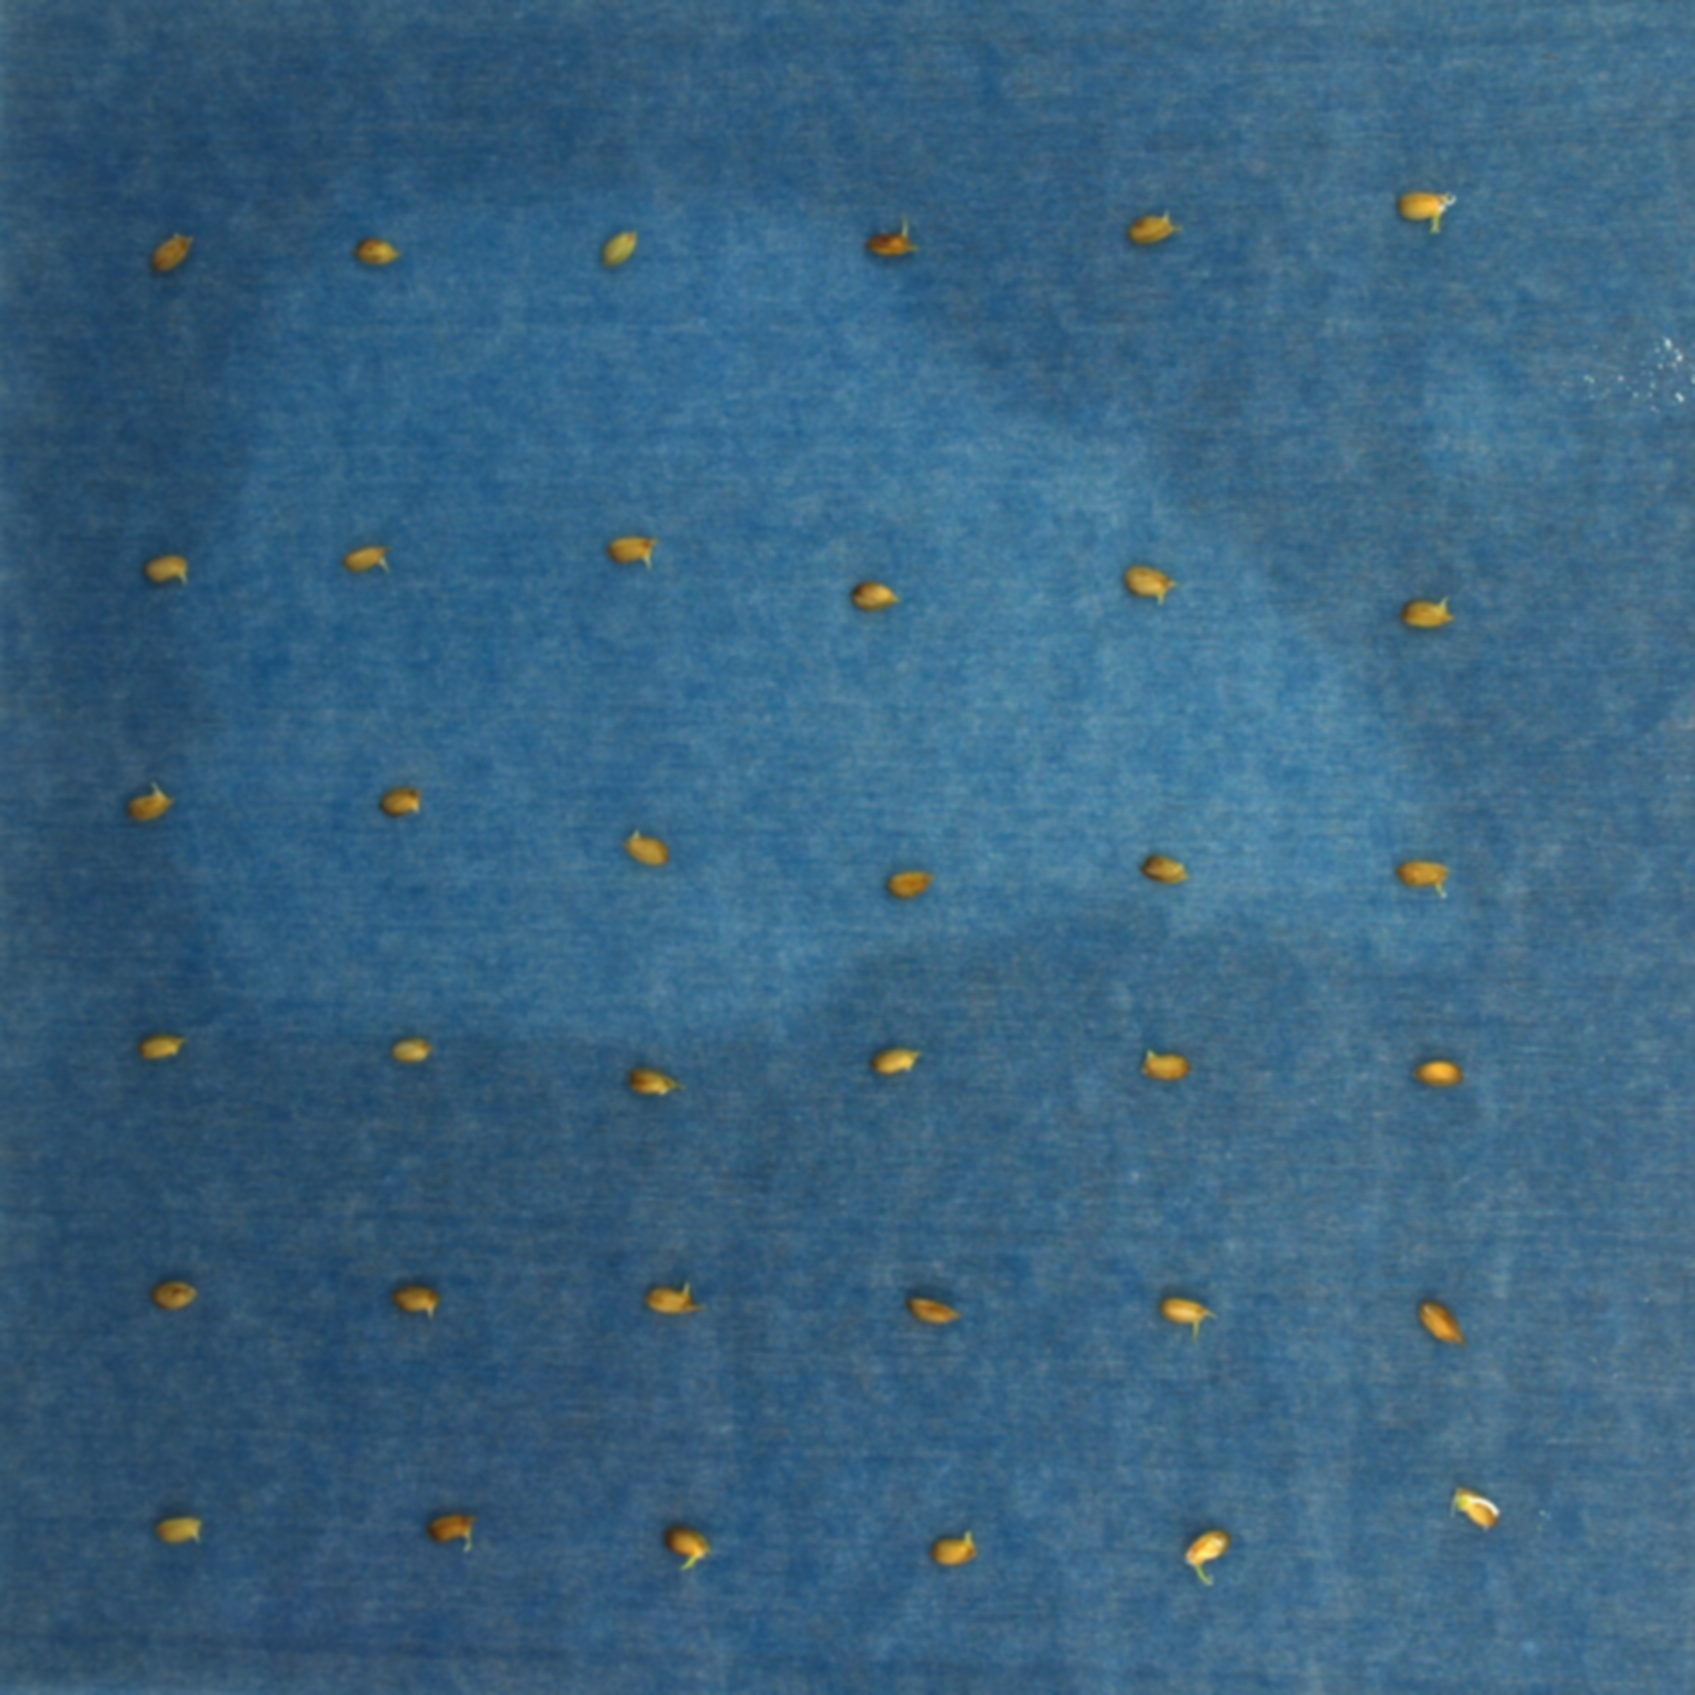not sprout: (863, 213, 922, 261), (1161, 1295, 1222, 1340), (1395, 191, 1458, 234), (1394, 857, 1451, 903), (1125, 562, 1180, 608), (422, 1509, 480, 1552), (126, 781, 179, 827), (643, 1281, 711, 1315), (602, 532, 660, 573), (1451, 1485, 1501, 1530), (146, 231, 197, 272), (1419, 1299, 1465, 1343), (1125, 206, 1177, 245), (621, 827, 666, 871), (391, 1284, 439, 1324), (626, 1066, 685, 1099), (1403, 594, 1458, 629), (930, 1530, 979, 1568), (143, 551, 191, 588), (135, 1031, 196, 1060), (596, 228, 640, 269), (352, 237, 404, 272), (151, 1515, 206, 1546), (1139, 1048, 1189, 1082), (908, 1296, 965, 1326), (1419, 1055, 1464, 1093), (846, 579, 902, 608), (885, 868, 933, 902), (1139, 855, 1192, 886), (871, 1045, 922, 1076), (376, 787, 424, 820), (346, 543, 391, 576), (154, 1277, 200, 1309), (393, 1037, 435, 1063)
sprout: (1183, 1530, 1232, 1589), (661, 1529, 712, 1572)
